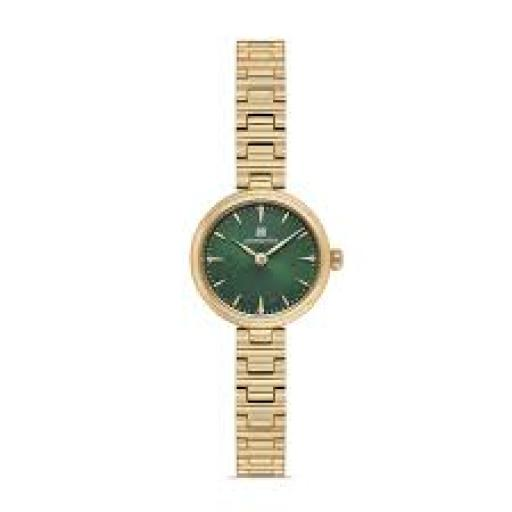KolSaati: (141, 32, 374, 502)
